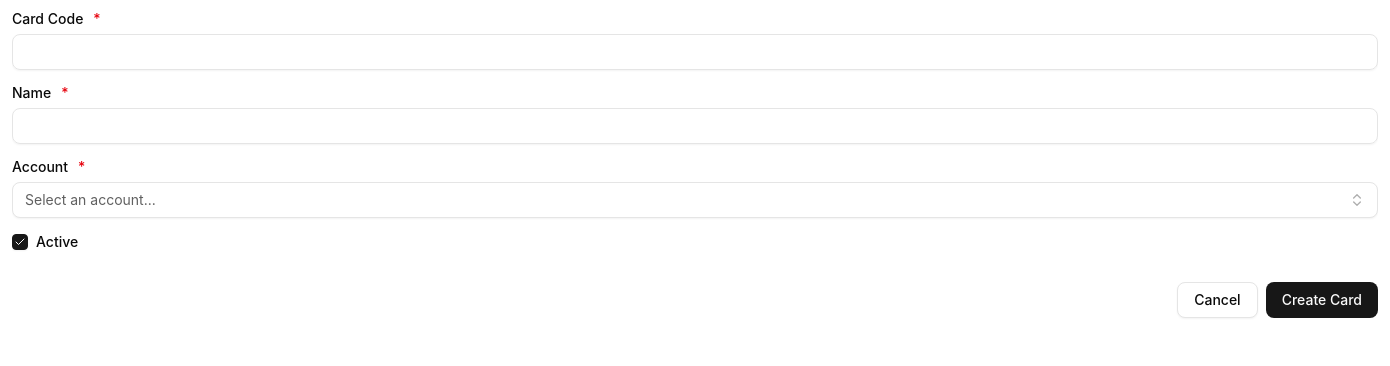
it: CardForm › blocks submit without selecting an Account
Type "CARD-004" into the field labelled "Card Code *" at (695, 52), box [12, 34, 1378, 70]
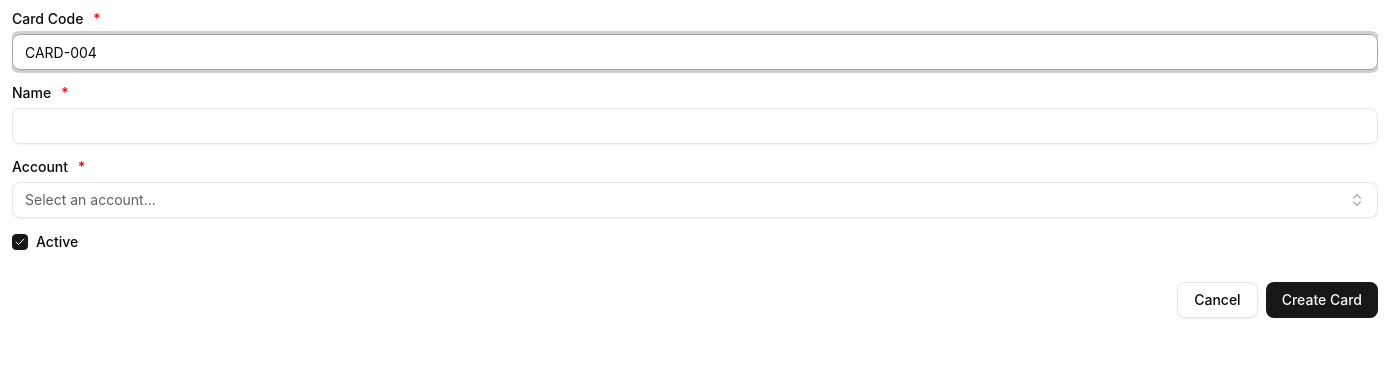
Type "Orphan" into the field labelled "Name *" at (695, 126), box [12, 108, 1378, 144]
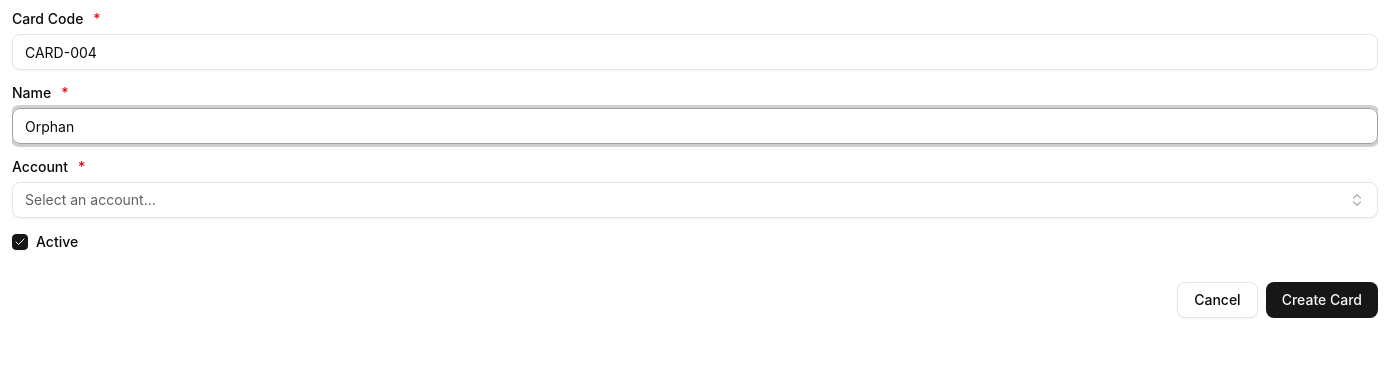
Click the button "Create Card" at (1322, 300), box [1266, 282, 1378, 318]
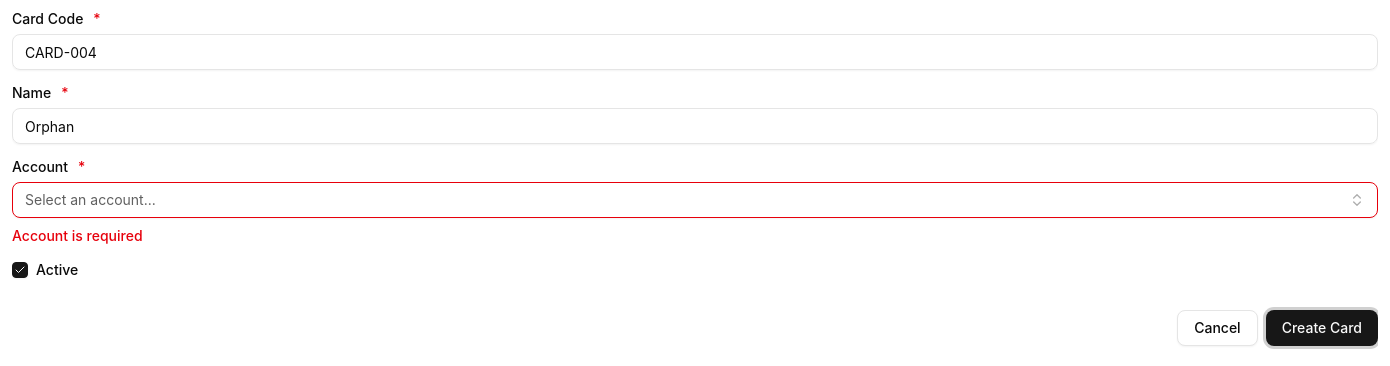
Expected: the text "Account is required" is shown, [12, 227, 143, 244]
